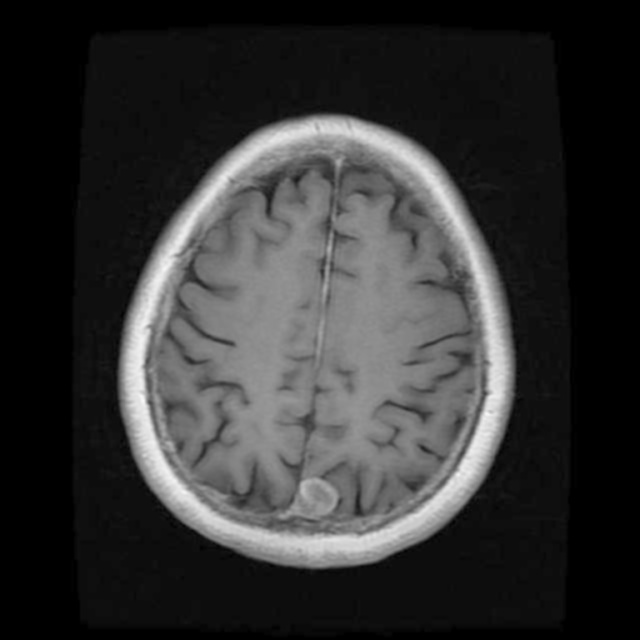meningioma tumor: (282, 462, 368, 534)
